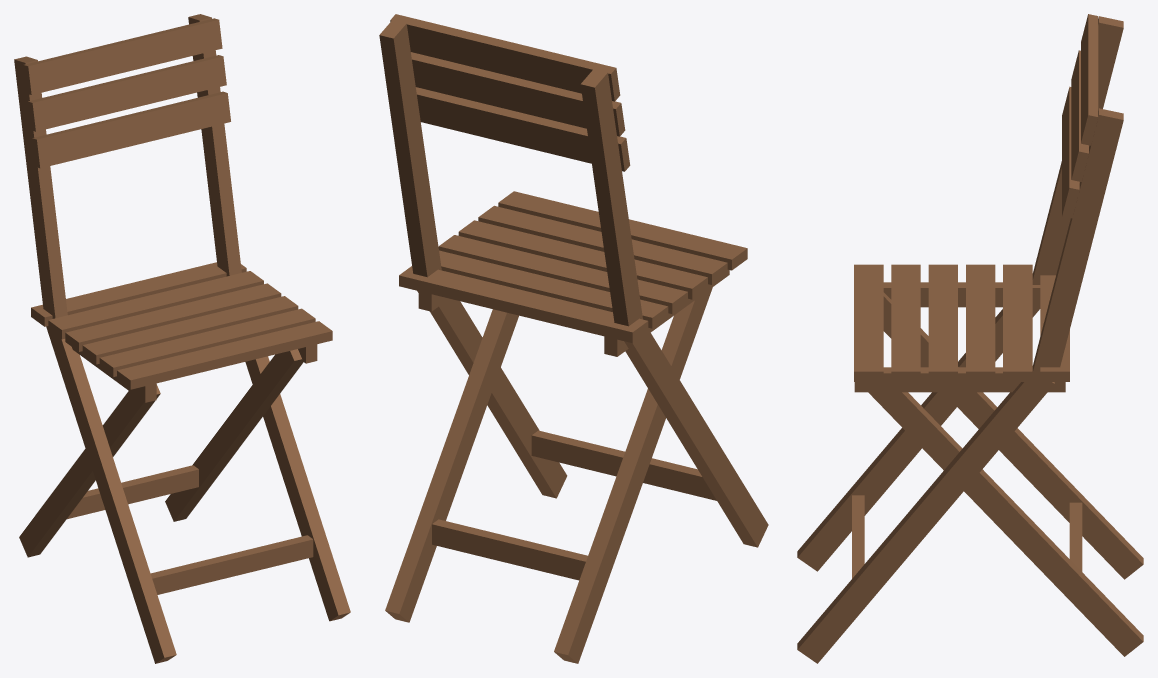
3 views of the same model, side by side, from view 1: azimuth 30°, elevation 25°; view 2: azimuth 150°, elevation 25°; view 3: azimuth 270°, elevation 25° (orthographic). The views are drawn at different scales.
Parts seen in each view (by area): view 1: Wood; view 2: Wood; view 3: Wood.
Part boxes in pixels (<box>): Wood: <box>14,14,350,663</box>; Wood: <box>379,14,768,663</box>; Wood: <box>797,14,1143,663</box>.
Size of the model in its own units: 0.36 by 0.8635 by 0.4918.
